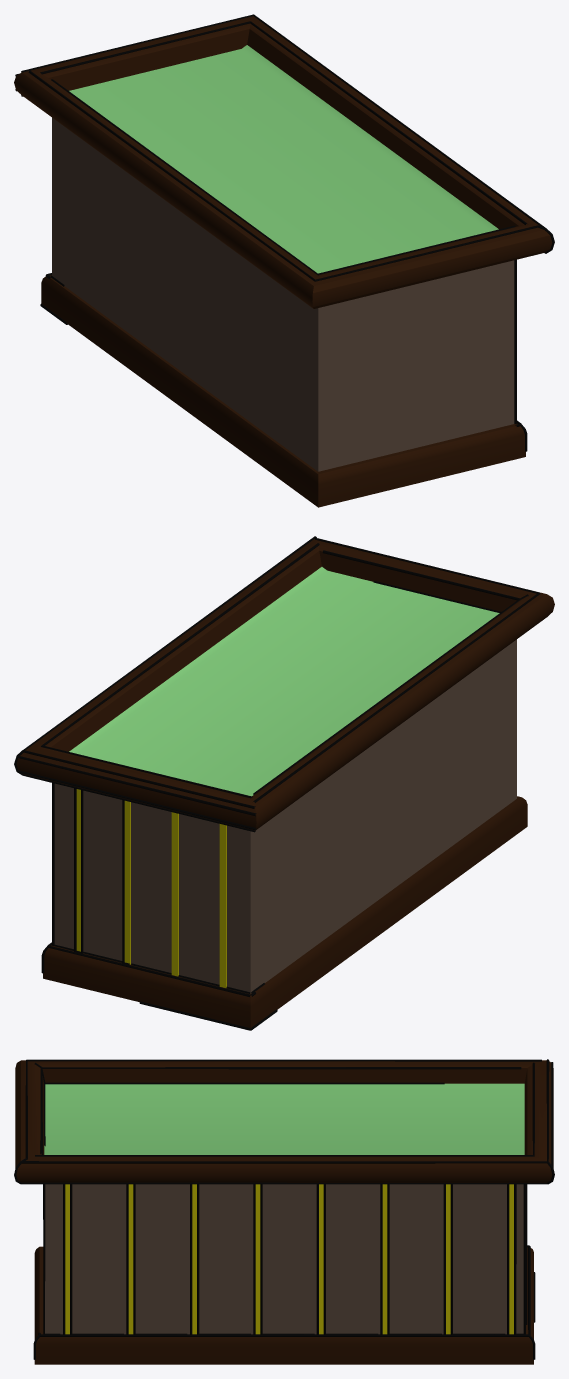
The model's file is Fighting (1) 2.fbx.
3 renders of one model, top to bottom at view 1: azimuth 30°, elevation 25°; view 2: azimuth 150°, elevation 25°; view 3: azimuth 270°, elevation 25°, orthographic. The views are drawn at different scales.
Parts seen in each view (by area): view 1: Cube; view 2: Cube; view 3: Cube.
Part boxes in pixels (left/top/right/bottom): Cube: left=14, top=14, right=554, bottom=507; Cube: left=14, top=536, right=554, bottom=1030; Cube: left=14, top=1059, right=554, bottom=1364.
Size of the model in its own units: 569 by 525 by 1220.
